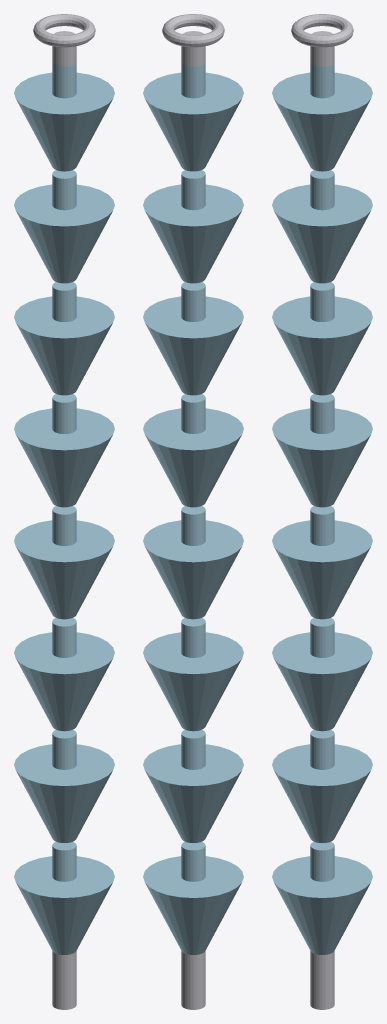
File: Cadena_1071mm.fbx
The picture shows the model from 3 angles, left to right: view 1: azimuth 90°, elevation 25°; view 2: azimuth 210°, elevation 25°; view 3: azimuth 270°, elevation 25°; orthographic projection.
Parts seen in each view (by area): view 1: Cadena_1071mm; view 2: Cadena_1071mm; view 3: Cadena_1071mm.
Boxes of the visible parts, x1=… form: Cadena_1071mm: x1=14, y1=14, x2=114, y2=1009; Cadena_1071mm: x1=143, y1=14, x2=243, y2=1009; Cadena_1071mm: x1=272, y1=14, x2=372, y2=1009.
Bounding box in the file's own units: 10 × 107 × 10.
